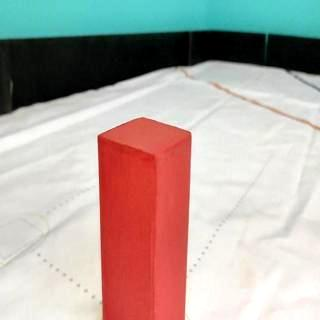redbox: (97, 115, 193, 320)
